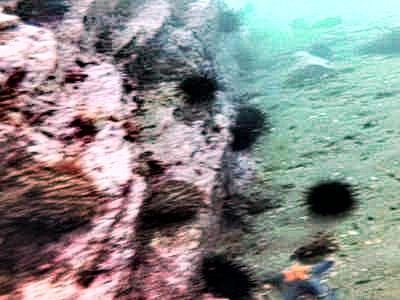urchin: (196, 254, 264, 293), (300, 178, 357, 217), (229, 102, 264, 151), (176, 71, 219, 104)
